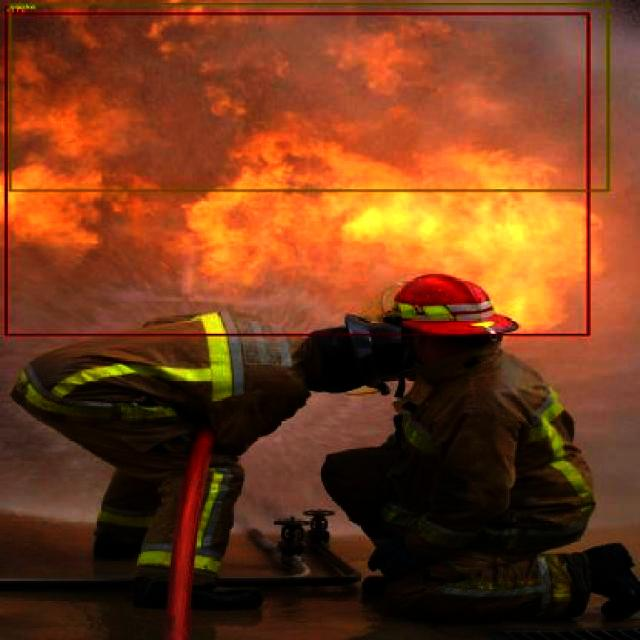fire: (4, 12, 590, 336)
smoke: (8, 3, 610, 191)
